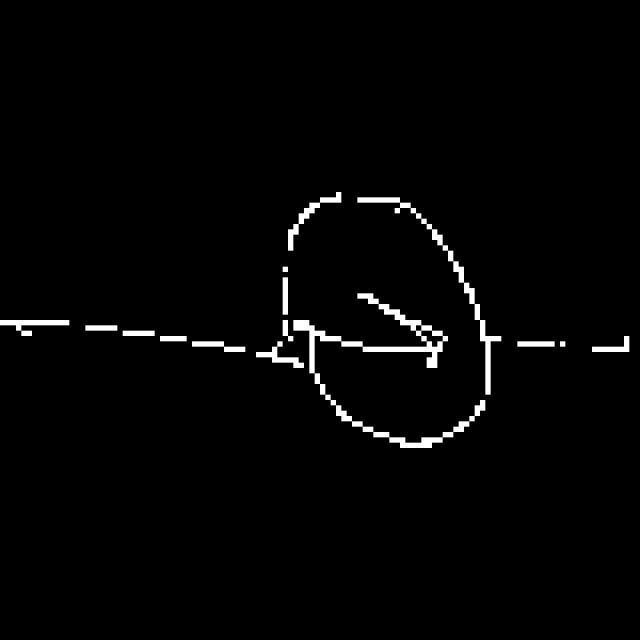current_source: (255, 188, 498, 468)
